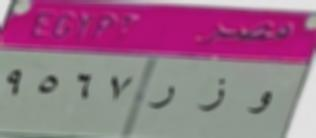5: (35, 67, 61, 103)
6: (73, 70, 96, 102)
7: (107, 70, 138, 100)
9: (3, 67, 27, 97)
raa: (143, 83, 182, 113)
waw: (243, 83, 277, 122)
zay: (195, 73, 231, 118)
